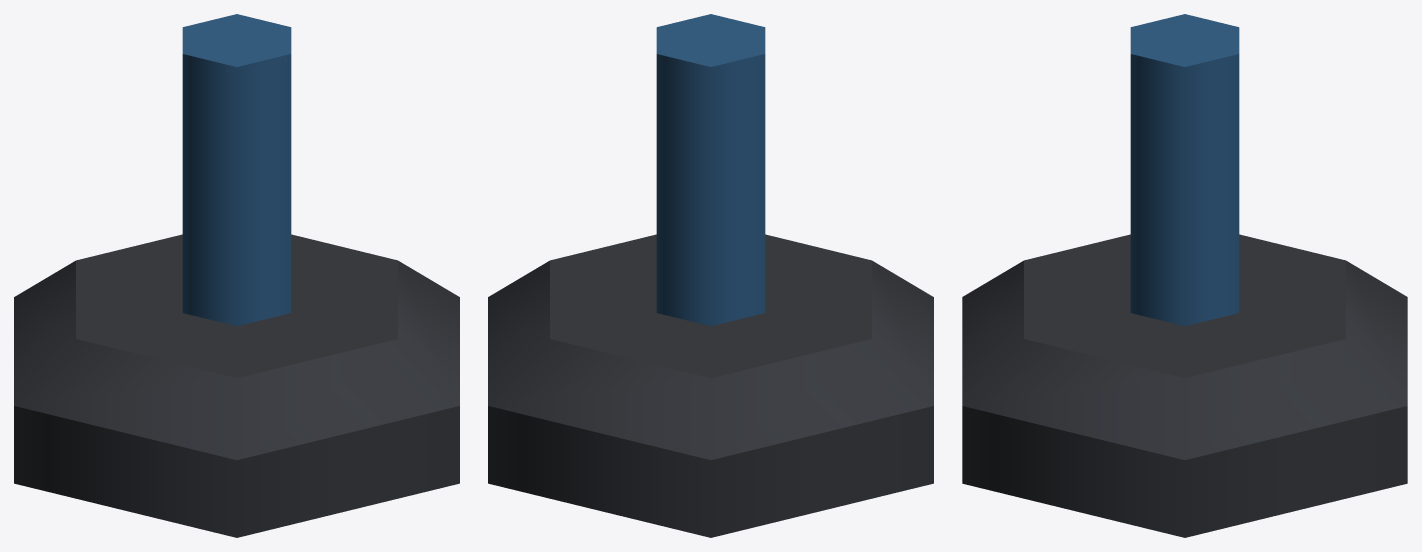
File: rm2_leg_rr_foot.obj
The picture shows the model from 3 angles, left to right: view 1: azimuth 30°, elevation 25°; view 2: azimuth 150°, elevation 25°; view 3: azimuth 270°, elevation 25°; orthographic projection.
Visible parts, largest first — view 1: rm2_leg_rr_foot; view 2: rm2_leg_rr_foot; view 3: rm2_leg_rr_foot.
Part boxes in pixels (x1=…): rm2_leg_rr_foot: x1=14, y1=14, x2=459, y2=537; rm2_leg_rr_foot: x1=488, y1=14, x2=933, y2=537; rm2_leg_rr_foot: x1=962, y1=14, x2=1407, y2=537.
Bounding box in the file's own units: 0.18 × 0.15 × 0.1559.
